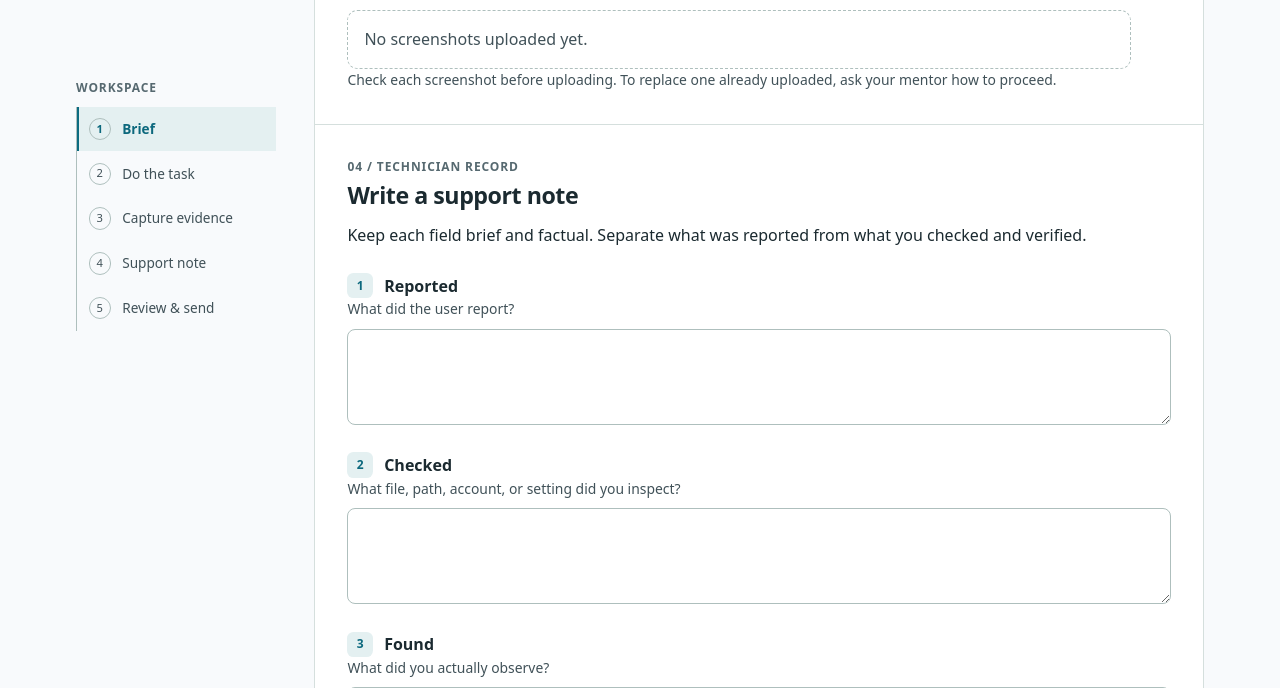
it: starts an empty practical without discarding the browser draft
This screenshot has width=1280, height=688.
(page scrolled)
In the text box labelled "Reported": (759, 377) top-left (347, 329), bottom-right (1171, 425), type "User cannot find the file"
(page scrolled)
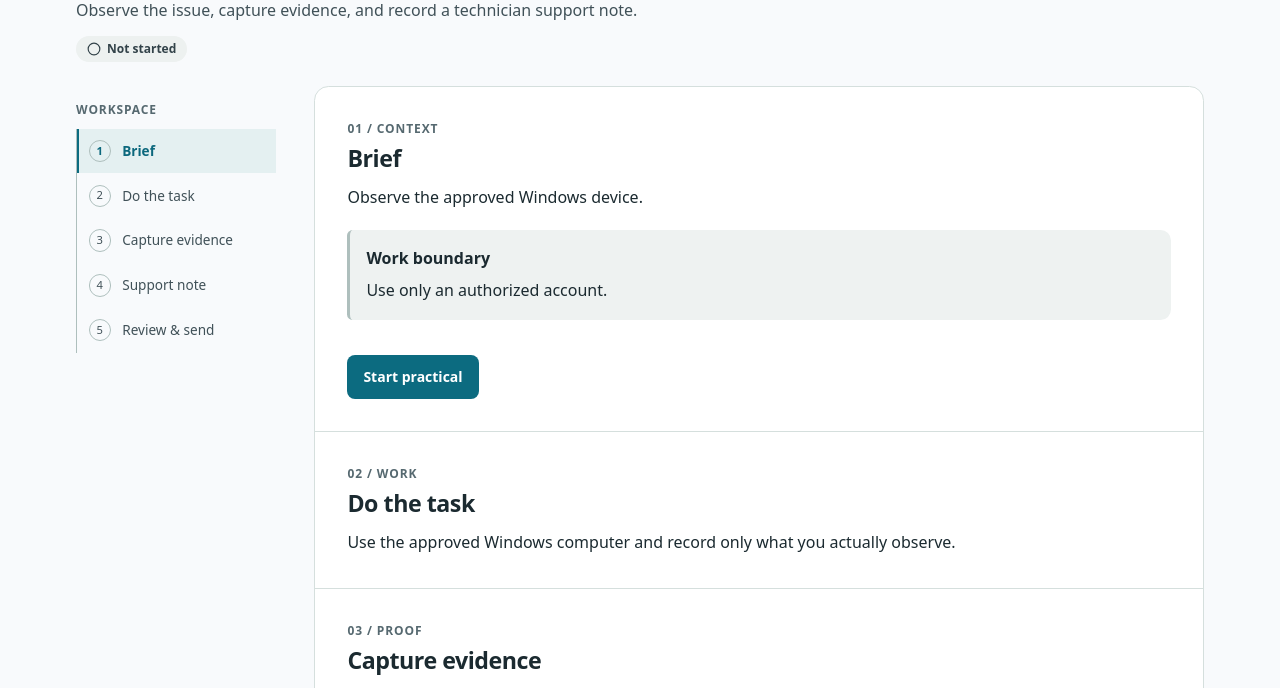
Click the button "Start practical": click(413, 377) top-left (347, 355), bottom-right (479, 399)
(page scrolled)
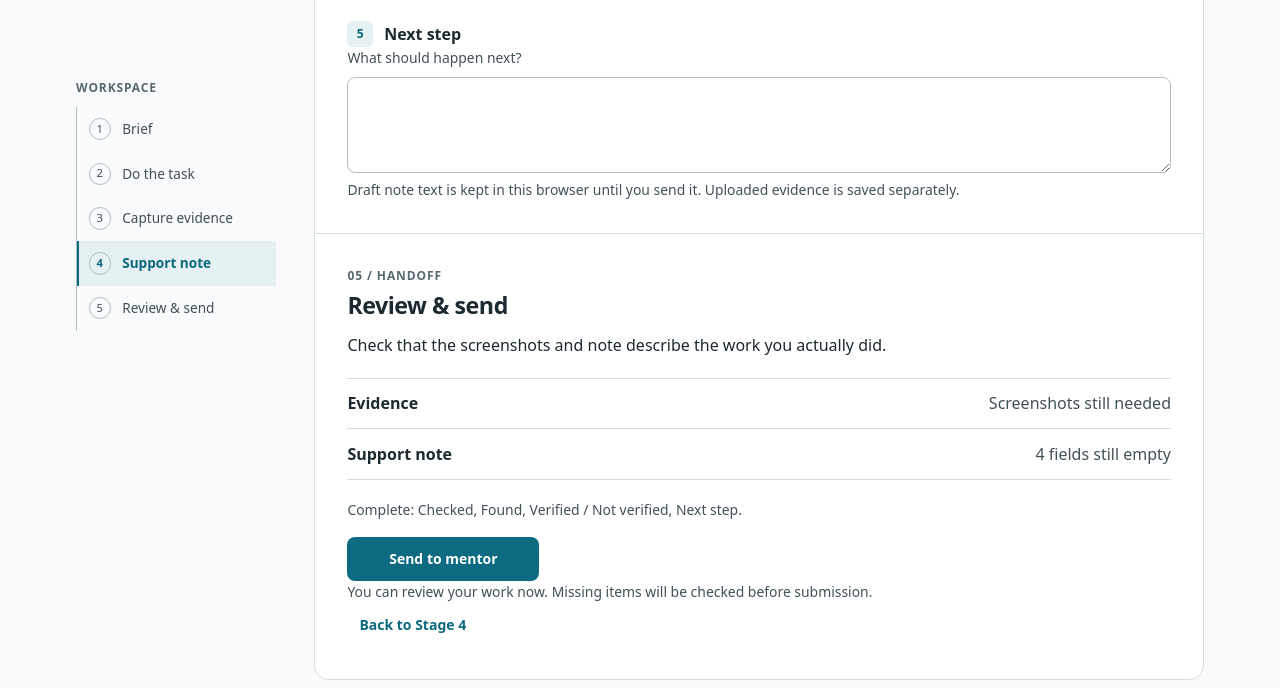
Now the button "Send to mentor" is enabled, box top-left (347, 537), bottom-right (539, 581)
